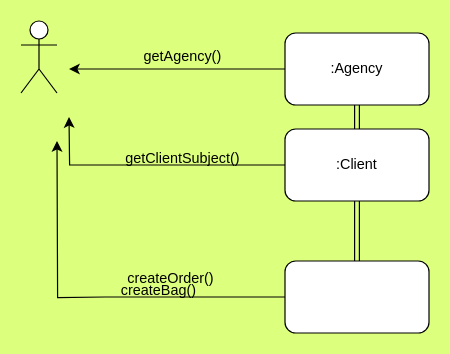
This 450x354 diagram has some shape labels left out. The shapes that lost their labels are listed below. From the top down, each one's centre as x and y in pixels, then its label:
At (x=38, y=56): "Agent".
At (x=356, y=296): ":OrderedBag".
